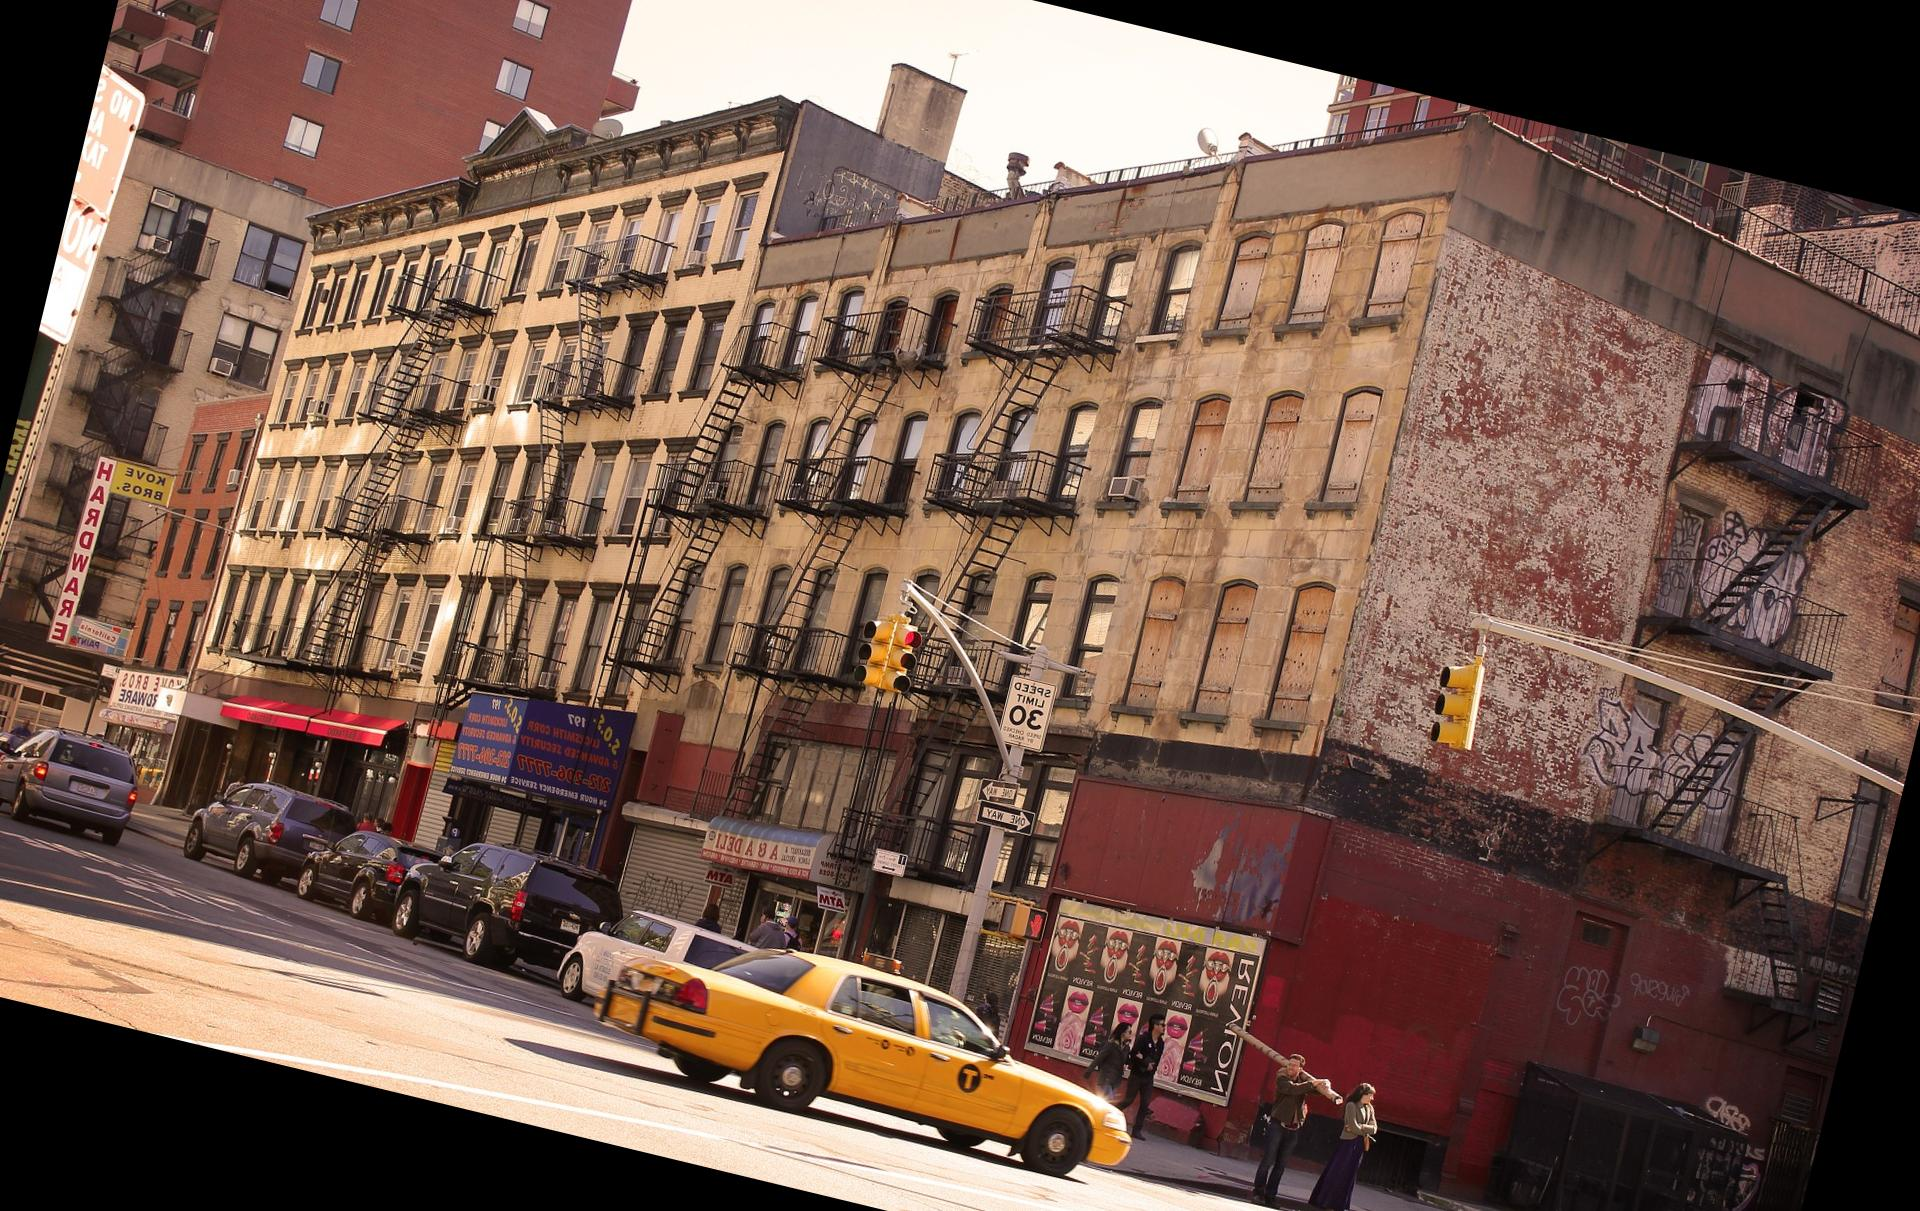taxi: (585, 942, 1144, 1166)
